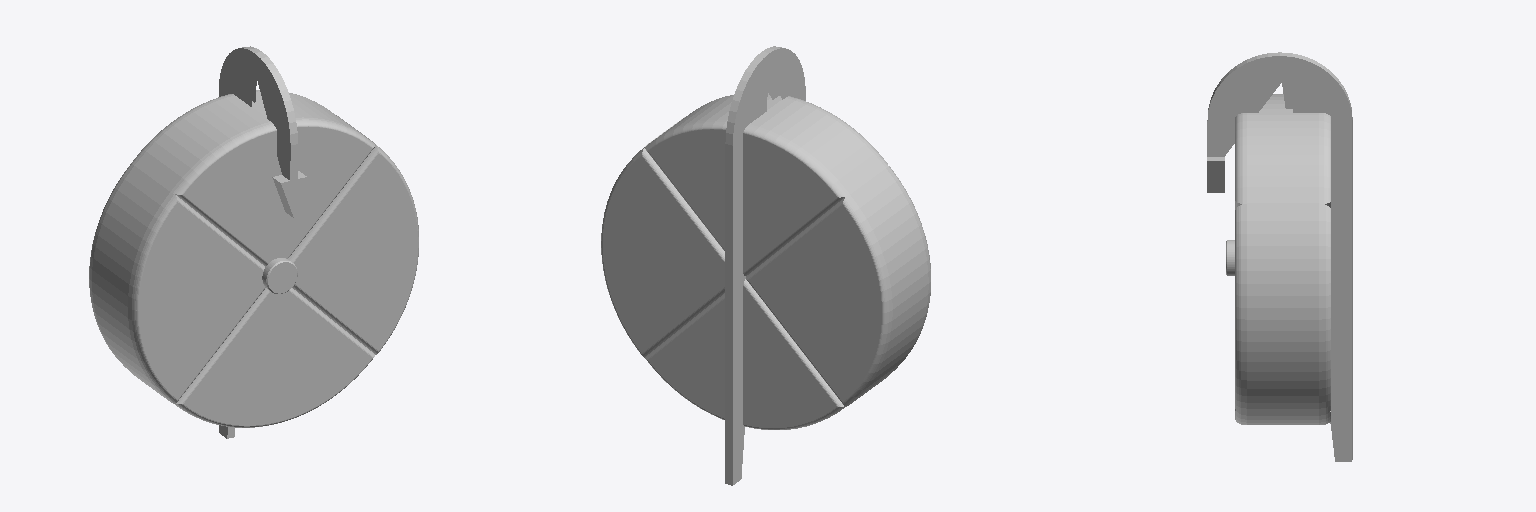
File: map_all.obj
3 views of the same model, side by side, from view 1: azimuth 30°, elevation 25°; view 2: azimuth 150°, elevation 25°; view 3: azimuth 270°, elevation 25° (orthographic).
Parts seen in each view (by area): view 1: svgMesh7, svgMesh6, svgMesh9, svgMesh8, svgMesh4, svgMesh5, pCylinder2; view 2: svgMesh7, svgMesh6, svgMesh9, svgMesh8, svgMesh4; view 3: svgMesh9, svgMesh4, svgMesh6, svgMesh8, svgMesh5.
Part boxes in pixels (x1,y1,x2,y2): svgMesh7: (89,163,265,403); svgMesh6: (132,90,374,266); svgMesh9: (288,115,418,354); svgMesh8: (175,288,374,427); svgMesh4: (219,46,297,438); svgMesh5: (272,155,306,217); pCylinder2: (262,258,297,293); svgMesh7: (746,166,930,405); svgMesh6: (645,93,887,275); svgMesh9: (601,117,724,357); svgMesh8: (645,279,846,429); svgMesh4: (725,46,805,485); svgMesh9: (1235,203,1330,415); svgMesh4: (1207,52,1352,461); svgMesh6: (1235,94,1330,209); svgMesh8: (1235,409,1330,424); svgMesh5: (1207,157,1224,192).
Size of the model in its own units: 6.96 by 9.34 by 3.03.